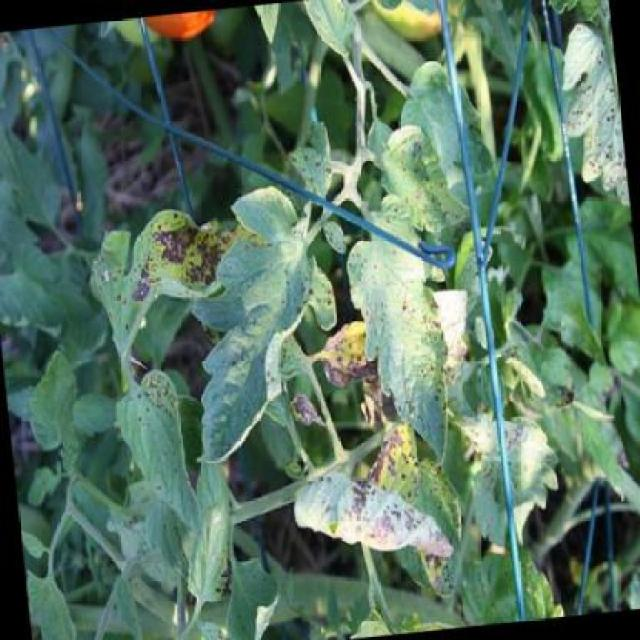Septoria leaf spot: (166, 180, 363, 467), (337, 191, 468, 474), (79, 183, 241, 352), (363, 401, 474, 606), (457, 366, 568, 569), (290, 447, 447, 578), (115, 360, 206, 549), (370, 136, 470, 224), (284, 107, 347, 203)
